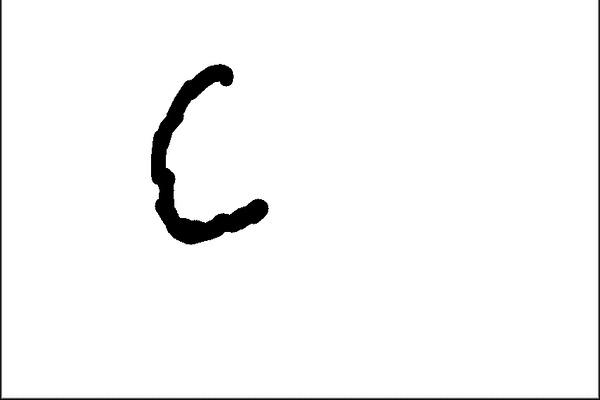C: (145, 54, 271, 248)
